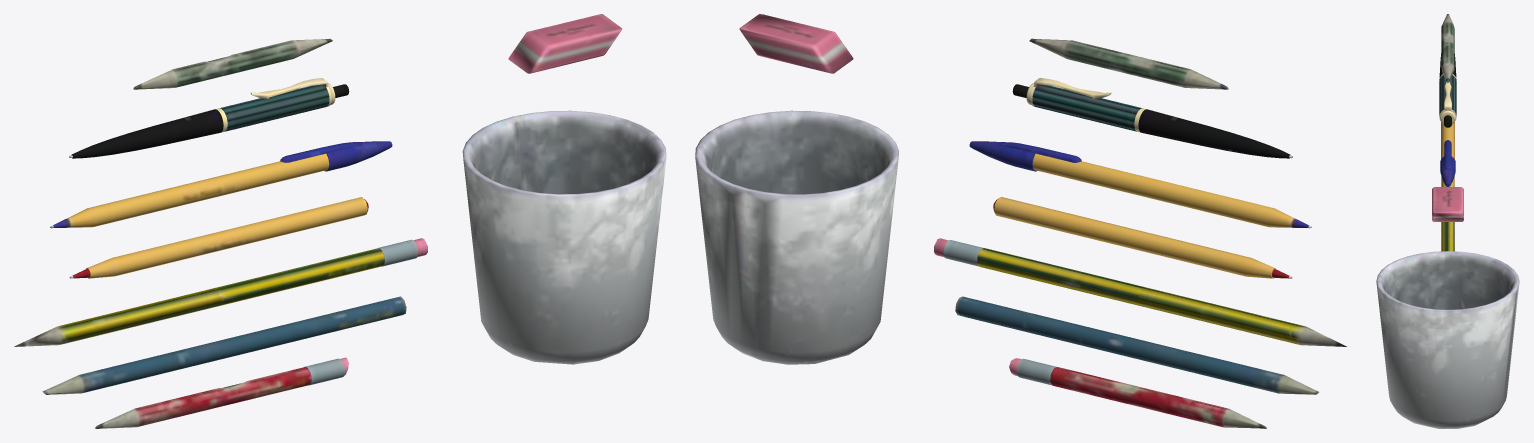
File: stationery-set.glb
3 renders of one model, left to right at view 1: azimuth 30°, elevation 25°; view 2: azimuth 150°, elevation 25°; view 3: azimuth 270°, elevation 25°, orthographic. The views are drawn at different scales.
Visible parts, largest first — view 1: stationery_supplies_pencilcup, stationery_supplies_pencil_new_a, stationery_supplies_pencil_new_b, stationery_supplies_pen_blue, stationery_supplies_pen_fancy, stationery_supplies_pen_red, stationery_supplies_pencil_used, stationery_supplies_eraser, stationery_supplies_pencil_old; view 2: stationery_supplies_pencilcup, stationery_supplies_pencil_new_a, stationery_supplies_pencil_new_b, stationery_supplies_pen_blue, stationery_supplies_pen_fancy, stationery_supplies_pen_red, stationery_supplies_pencil_used, stationery_supplies_eraser, stationery_supplies_pencil_old; view 3: stationery_supplies_pencilcup, stationery_supplies_eraser, stationery_supplies_pen_fancy, stationery_supplies_pen_blue, stationery_supplies_pencil_old, stationery_supplies_pencil_new_a.
Boxes of the visible parts, left/top/right/bottom form: stationery_supplies_pencilcup: left=462, top=110, right=666, bottom=364; stationery_supplies_pencil_new_a: left=14, top=238, right=427, bottom=346; stationery_supplies_pencil_new_b: left=42, top=296, right=406, bottom=394; stationery_supplies_pen_blue: left=50, top=141, right=392, bottom=228; stationery_supplies_pen_fancy: left=69, top=78, right=349, bottom=158; stationery_supplies_pen_red: left=69, top=197, right=368, bottom=278; stationery_supplies_pencil_used: left=95, top=357, right=348, bottom=428; stationery_supplies_eraser: left=508, top=14, right=622, bottom=73; stationery_supplies_pencil_old: left=133, top=38, right=332, bottom=89; stationery_supplies_pencilcup: left=695, top=110, right=898, bottom=364; stationery_supplies_pencil_new_a: left=934, top=238, right=1346, bottom=346; stationery_supplies_pencil_new_b: left=955, top=296, right=1318, bottom=394; stationery_supplies_pen_blue: left=969, top=141, right=1311, bottom=228; stationery_supplies_pen_fancy: left=1012, top=78, right=1292, bottom=158; stationery_supplies_pen_red: left=993, top=197, right=1292, bottom=278; stationery_supplies_pencil_used: left=1009, top=358, right=1266, bottom=428; stationery_supplies_eraser: left=739, top=14, right=853, bottom=73; stationery_supplies_pencil_old: left=1029, top=38, right=1228, bottom=89; stationery_supplies_pencilcup: left=1376, top=251, right=1519, bottom=428; stationery_supplies_eraser: left=1432, top=187, right=1463, bottom=221; stationery_supplies_pen_fancy: left=1439, top=53, right=1456, bottom=127; stationery_supplies_pen_blue: left=1440, top=122, right=1455, bottom=186; stationery_supplies_pencil_old: left=1441, top=14, right=1454, bottom=82; stationery_supplies_pencil_new_a: left=1441, top=222, right=1454, bottom=251.
Size of the model in its own units: 0.3018 by 0.1643 by 0.0836.
Materials: 1 (1 with a texture image).
